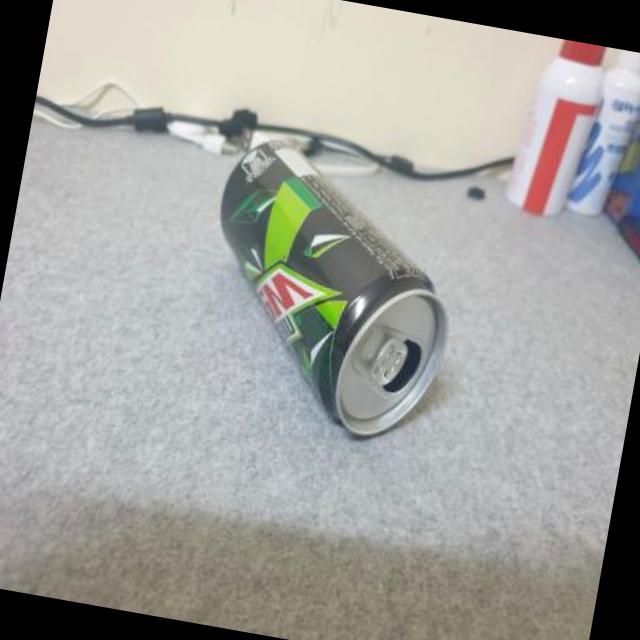metal: (222, 139, 447, 433)
